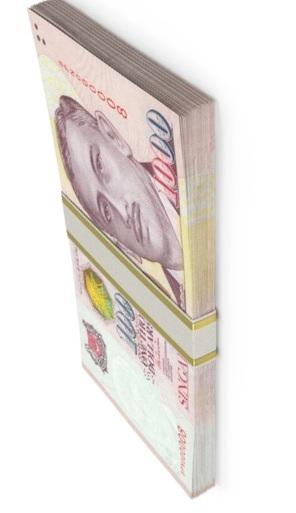1000SingaporeDollar: (32, 22, 190, 481)
